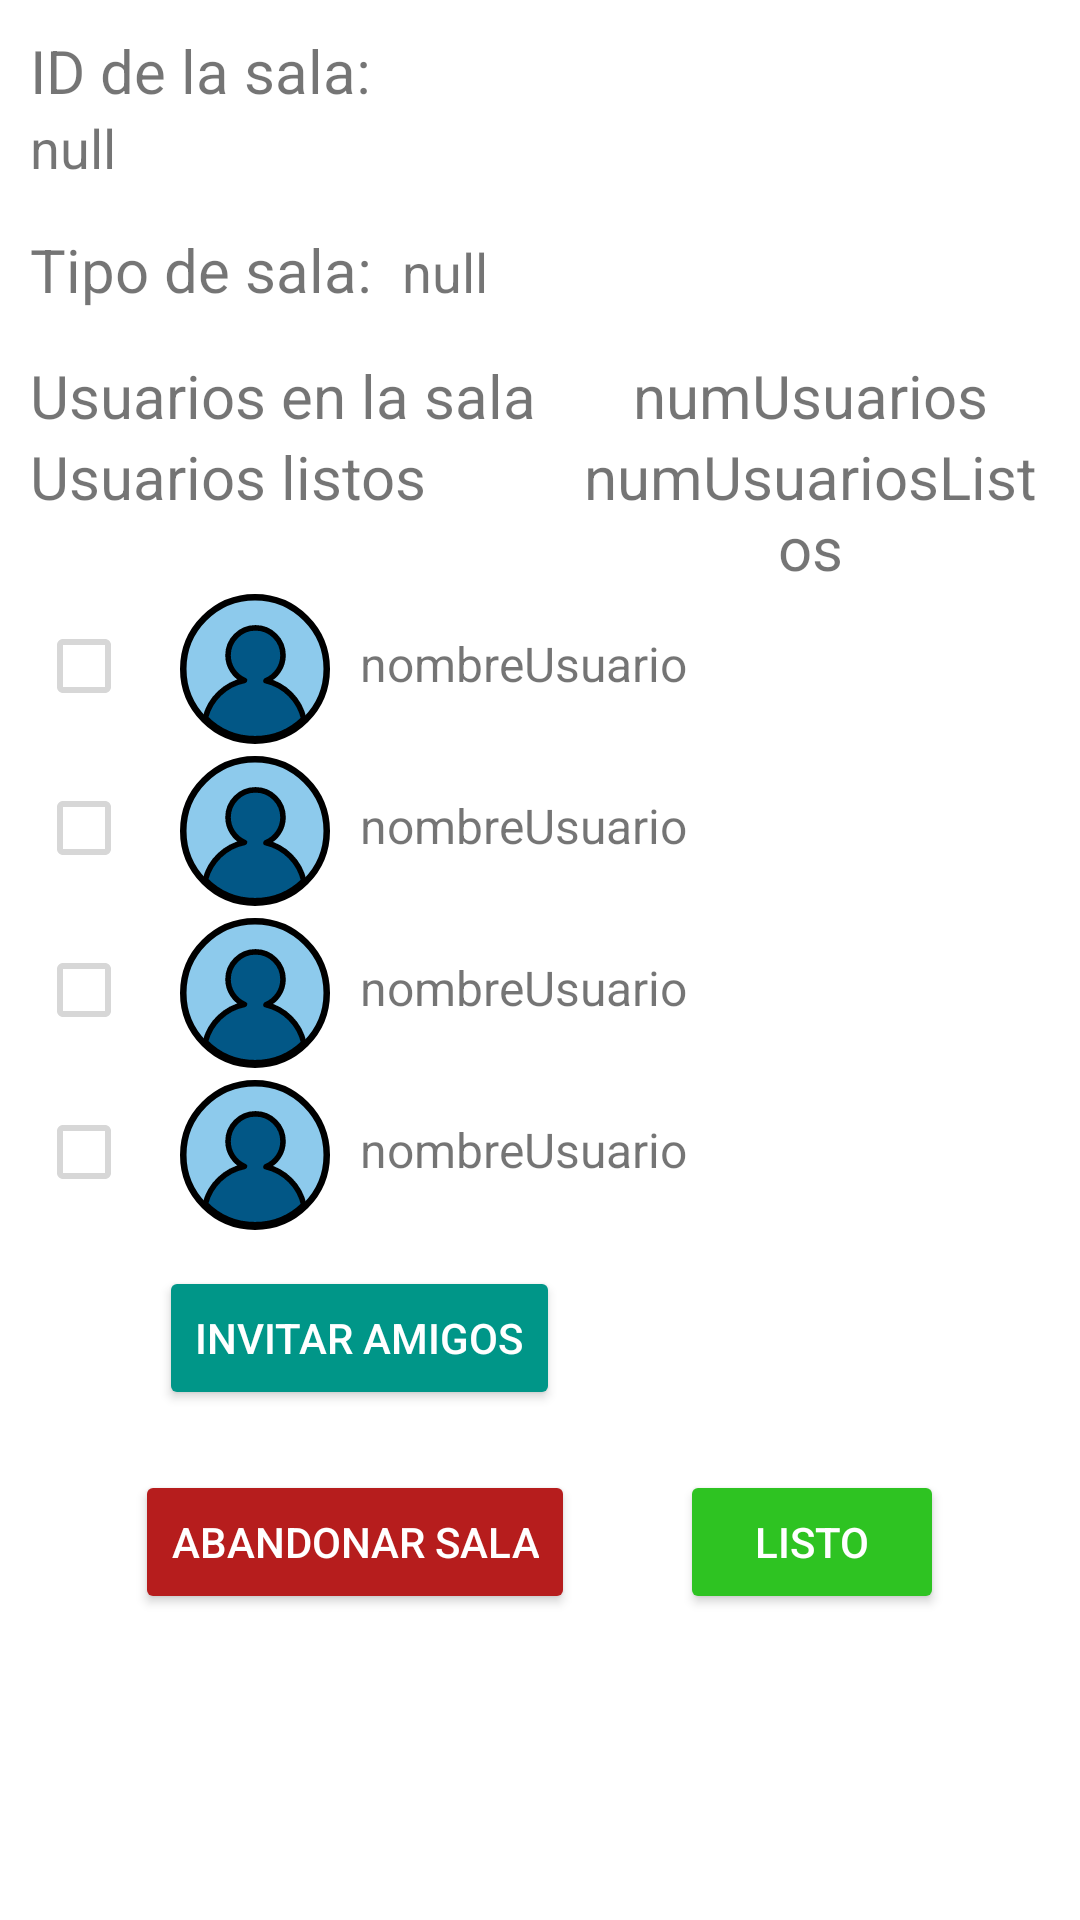

Icon bounding boxes for this 1080*1920 phone screenshot, format (x1, y1, x2, y2):
iconoperfil: (180, 594, 330, 744), (180, 756, 330, 906), (180, 918, 330, 1068), (180, 1080, 330, 1230)
